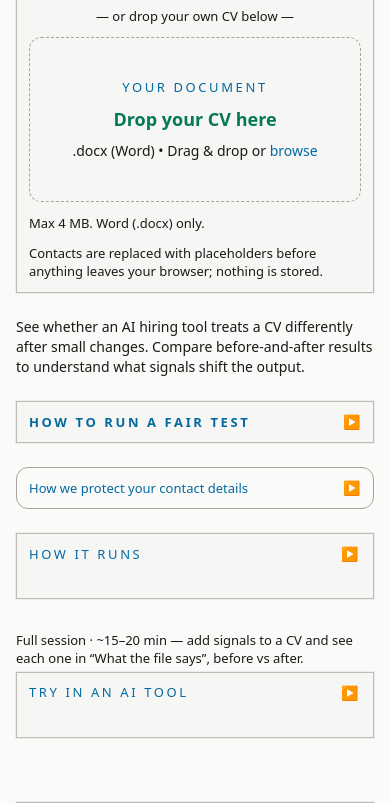
Home page › intro and resources nav › HR fair test panel uses softer checklist label and links Try in an AI tool to #validation-lab
The image size is (390, 803).
(page scrolled)
Click the button "How to run a fair test ▶". click: (195, 422)
box: left=17, top=402, right=373, bottom=442
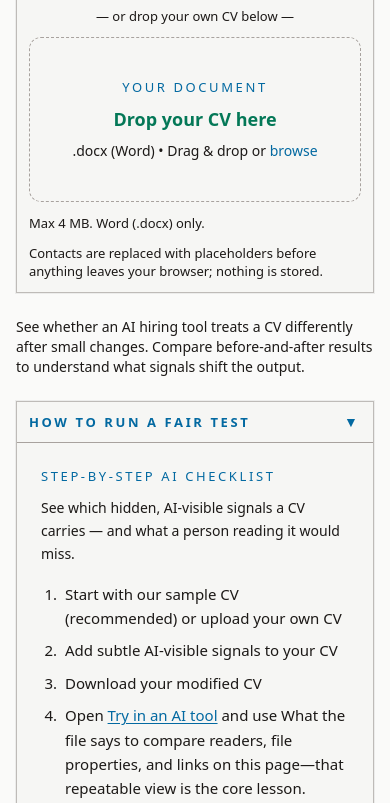
Now the heading "STEP-BY-STEP AI CHECKLIST" is shown, box left=41, top=467, right=276, bottom=485
